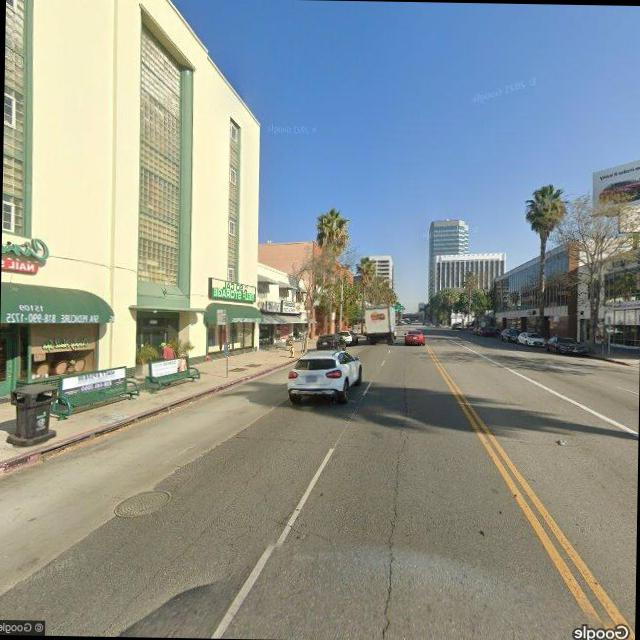pothole: (374, 421, 412, 640)
